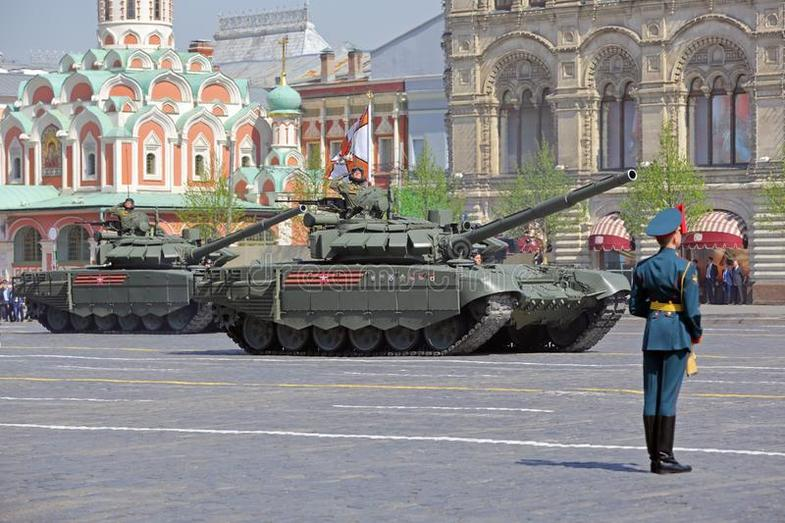t72: (220, 220, 624, 369)
